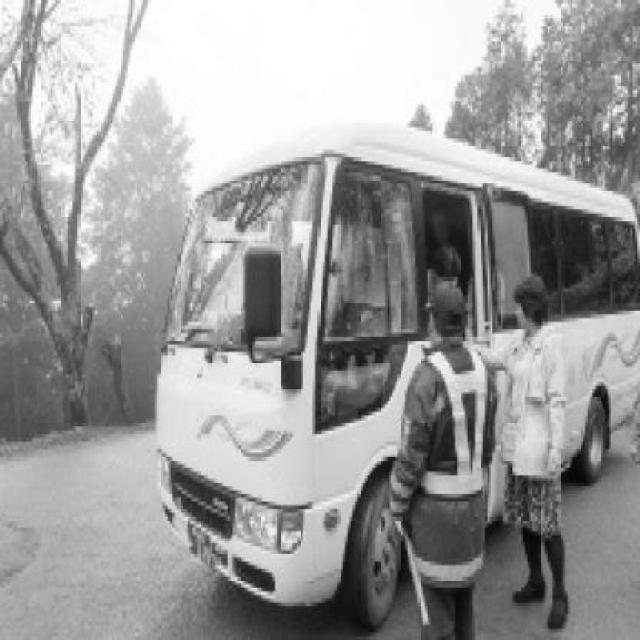Bus- Small: (155, 121, 640, 631)
